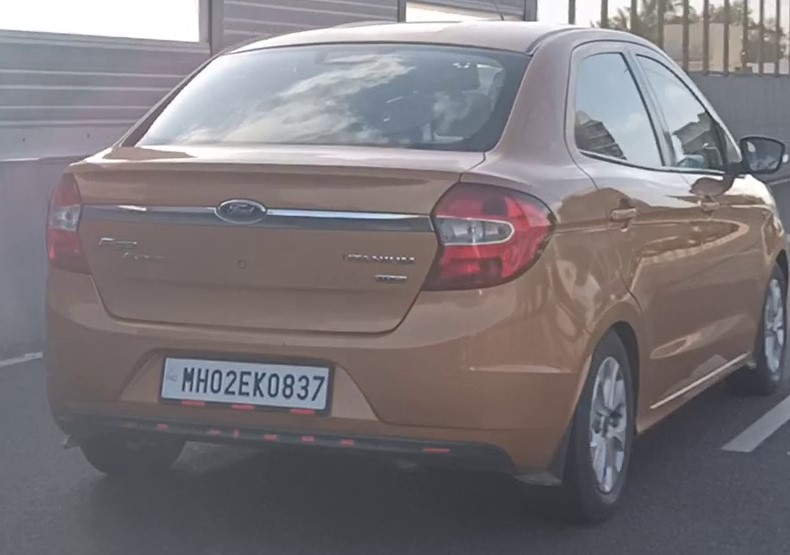MH02EK0837: (160, 356, 333, 412)
